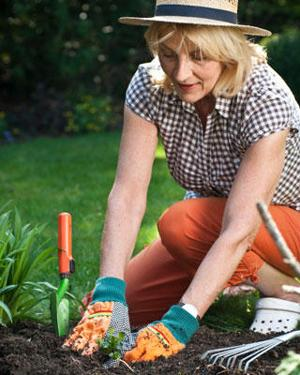person: (68, 2, 300, 357)
